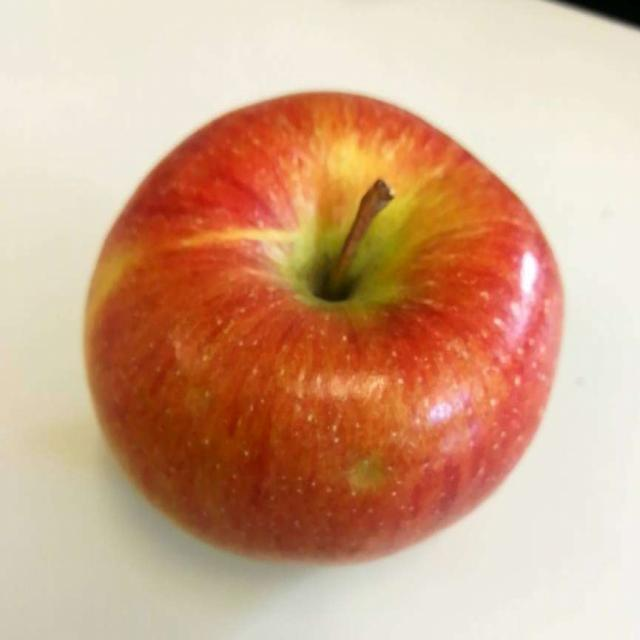apple: (93, 114, 563, 553)
